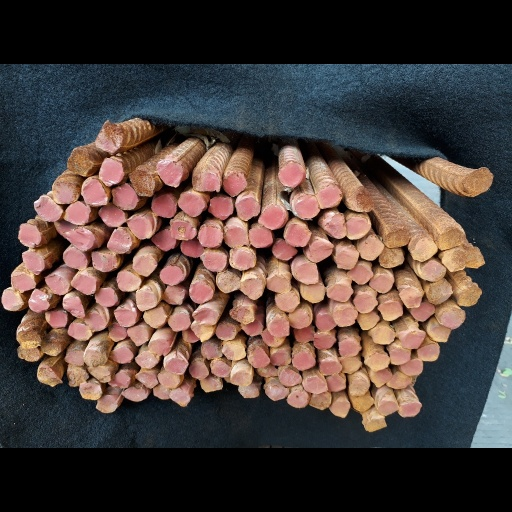dipstick: (94, 120, 121, 153), (110, 183, 139, 210), (155, 158, 181, 188), (320, 212, 347, 240), (408, 235, 437, 261), (436, 225, 465, 251), (33, 197, 63, 222), (177, 191, 204, 218), (466, 167, 493, 194), (63, 200, 91, 226), (81, 179, 107, 207), (129, 168, 154, 197), (113, 298, 138, 327), (304, 237, 333, 262), (346, 187, 375, 212), (98, 159, 124, 186), (293, 193, 319, 220), (292, 257, 319, 283), (257, 203, 285, 228), (357, 235, 385, 260), (332, 244, 358, 270), (36, 363, 63, 388), (284, 221, 311, 246), (426, 279, 453, 304), (68, 149, 92, 177), (98, 203, 126, 227), (65, 228, 95, 250), (106, 228, 132, 253), (279, 162, 304, 188), (229, 247, 256, 271), (126, 214, 151, 239), (426, 317, 451, 342), (52, 179, 76, 205), (62, 293, 86, 319), (150, 194, 176, 218), (230, 300, 256, 324), (317, 186, 343, 210), (18, 221, 41, 248), (70, 272, 97, 295), (275, 288, 300, 312), (151, 229, 177, 252), (197, 224, 223, 247), (286, 305, 312, 328), (457, 283, 483, 306), (193, 171, 220, 193), (200, 249, 227, 271), (325, 281, 353, 302), (222, 172, 246, 196), (27, 288, 50, 313), (62, 247, 87, 270), (345, 217, 370, 240), (272, 238, 297, 261), (116, 270, 142, 292), (241, 273, 263, 299), (299, 281, 325, 303), (440, 249, 466, 271), (170, 220, 197, 241), (21, 251, 44, 275), (45, 273, 69, 296), (40, 332, 64, 355), (209, 196, 233, 219), (11, 272, 36, 294), (132, 254, 157, 276), (237, 196, 259, 221), (248, 225, 273, 247), (91, 250, 117, 271), (266, 272, 292, 293), (378, 247, 404, 268), (409, 300, 435, 321), (224, 226, 251, 246), (346, 264, 373, 284), (368, 325, 395, 345), (377, 300, 404, 320), (66, 364, 89, 387), (333, 304, 356, 327), (1, 287, 23, 311), (248, 345, 270, 369), (159, 265, 184, 286), (349, 390, 374, 411), (368, 272, 393, 293), (353, 292, 378, 313), (421, 260, 446, 281), (465, 245, 485, 271), (383, 228, 410, 247), (143, 306, 166, 328), (231, 363, 253, 386), (135, 286, 156, 310), (349, 373, 370, 397), (17, 329, 42, 349), (67, 321, 92, 341), (264, 380, 289, 400), (278, 367, 303, 387), (188, 284, 214, 303), (192, 307, 218, 326), (439, 310, 465, 329), (268, 315, 290, 337), (399, 286, 421, 308), (192, 320, 215, 341), (216, 272, 240, 292), (292, 350, 316, 370), (339, 338, 363, 358), (88, 364, 113, 383), (356, 311, 381, 330), (107, 346, 133, 364), (327, 396, 349, 417), (240, 316, 263, 336), (369, 367, 392, 387), (417, 343, 440, 363), (121, 385, 148, 402), (161, 286, 185, 305), (222, 342, 246, 361), (312, 330, 336, 349), (318, 357, 342, 376), (387, 371, 411, 390), (401, 329, 425, 348), (179, 240, 205, 257), (84, 311, 105, 332), (168, 312, 190, 332), (187, 359, 209, 379), (269, 347, 291, 367), (314, 310, 336, 330), (309, 390, 331, 410), (262, 327, 285, 346), (377, 397, 400, 416), (83, 349, 107, 367), (364, 353, 389, 370), (127, 326, 148, 346), (80, 380, 102, 399), (94, 288, 116, 307), (210, 358, 232, 377), (364, 412, 386, 431), (44, 310, 67, 328), (287, 390, 311, 407), (16, 345, 41, 361), (108, 322, 128, 342), (216, 321, 237, 340), (95, 395, 117, 413), (135, 351, 157, 369), (326, 373, 348, 391), (200, 374, 223, 391), (304, 376, 327, 393), (400, 358, 423, 375), (134, 372, 158, 388), (338, 356, 362, 372), (390, 346, 410, 365), (166, 356, 187, 374), (169, 388, 190, 406), (201, 340, 222, 358), (293, 325, 314, 343), (157, 371, 180, 387), (54, 219, 76, 235), (111, 370, 130, 388), (65, 349, 85, 366), (150, 339, 170, 356), (400, 402, 421, 418), (181, 326, 199, 343), (151, 384, 171, 399), (238, 384, 259, 398), (255, 365, 277, 378)
